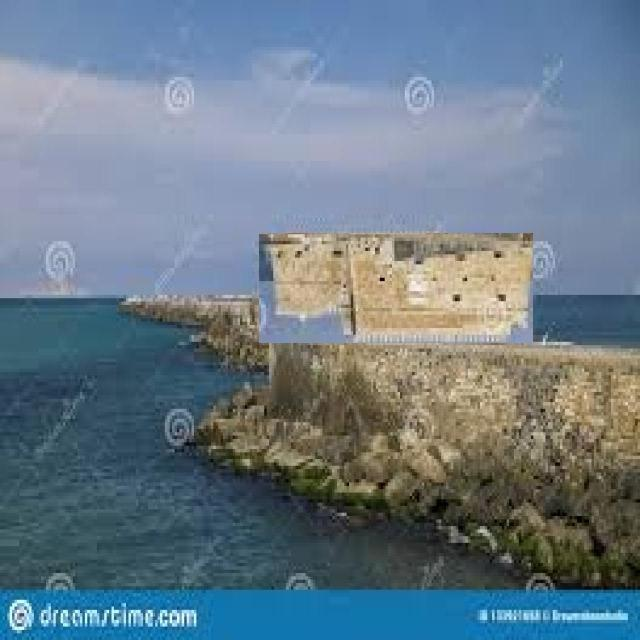Kules: (260, 234, 534, 344)
